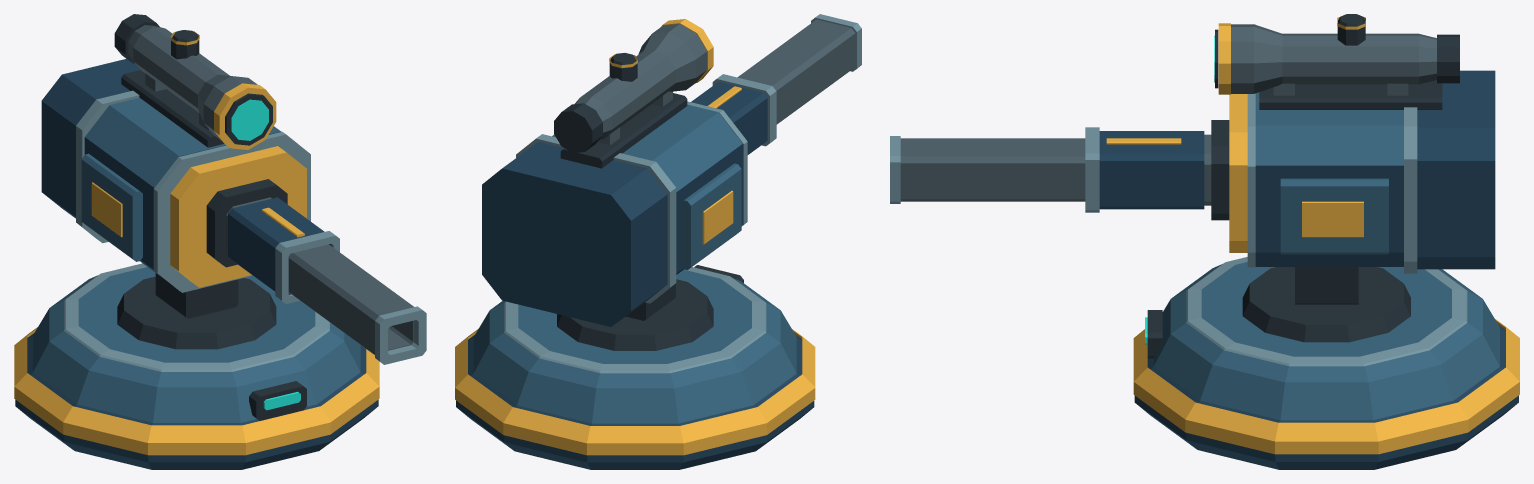
Rendered from PrecisionLevel2.obj.
The picture shows the model from 3 angles, left to right: view 1: azimuth 30°, elevation 25°; view 2: azimuth 150°, elevation 25°; view 3: azimuth 270°, elevation 25°; orthographic projection. The views are drawn at different scales.
Visible parts, largest first — view 1: UpperPlinth, GoldBelt, GoldMantlet, SquareBarrel, Turntable, RearCasing, Foundation, UpperArmor, ScopeBody, FrontRim, BarrelShroud, TopRim (+16 smaller); view 2: RearCasing, UpperPlinth, GoldBelt, ScopeBody, Foundation, SquareBarrel, Turntable, UpperArmor, TopRim, SideArmor-1, ScopeRail, BarrelShroud (+10 smaller); view 3: UpperPlinth, RearCasing, GoldBelt, SquareBarrel, ScopeBody, Turntable, UpperArmor, BarrelShroud, Housing, Foundation, SideArmor1, TopRim (+13 smaller).
Part boxes in pixels (x1,y1,x2,y2): UpperPlinth: (33, 267, 360, 422); GoldBelt: (14, 327, 379, 455); GoldMantlet: (170, 146, 306, 287); SquareBarrel: (288, 244, 413, 354); Turntable: (117, 276, 276, 349); RearCasing: (41, 59, 140, 218); Foundation: (15, 333, 378, 469); UpperArmor: (85, 97, 280, 187); ScopeBody: (128, 25, 257, 140); FrontRim: (153, 131, 310, 292); BarrelShroud: (228, 197, 331, 294); TopRim: (64, 263, 329, 371); RearCasing: (482, 142, 667, 326); UpperPlinth: (473, 270, 796, 423); GoldBelt: (455, 329, 815, 455); ScopeBody: (575, 24, 707, 139); Foundation: (456, 335, 814, 469); SquareBarrel: (737, 19, 855, 124); Turntable: (557, 279, 713, 350); UpperArmor: (552, 104, 742, 191); TopRim: (504, 267, 766, 373); SideArmor-1: (681, 163, 741, 270); ScopeRail: (560, 93, 687, 168); BarrelShroud: (691, 81, 767, 154); UpperPlinth: (1153, 262, 1499, 420); RearCasing: (1417, 70, 1495, 269); GoldBelt: (1133, 319, 1519, 454); SquareBarrel: (900, 138, 1085, 201); ScopeBody: (1231, 24, 1436, 93); Turntable: (1242, 267, 1410, 342); UpperArmor: (1255, 92, 1403, 165); BarrelShroud: (1099, 131, 1204, 209); Housing: (1255, 165, 1403, 266); Foundation: (1134, 325, 1518, 469); SideArmor1: (1280, 178, 1388, 254); TopRim: (1186, 257, 1467, 366).
Bounding box in the file's own units: 2.18 × 2.34 × 3.55.
